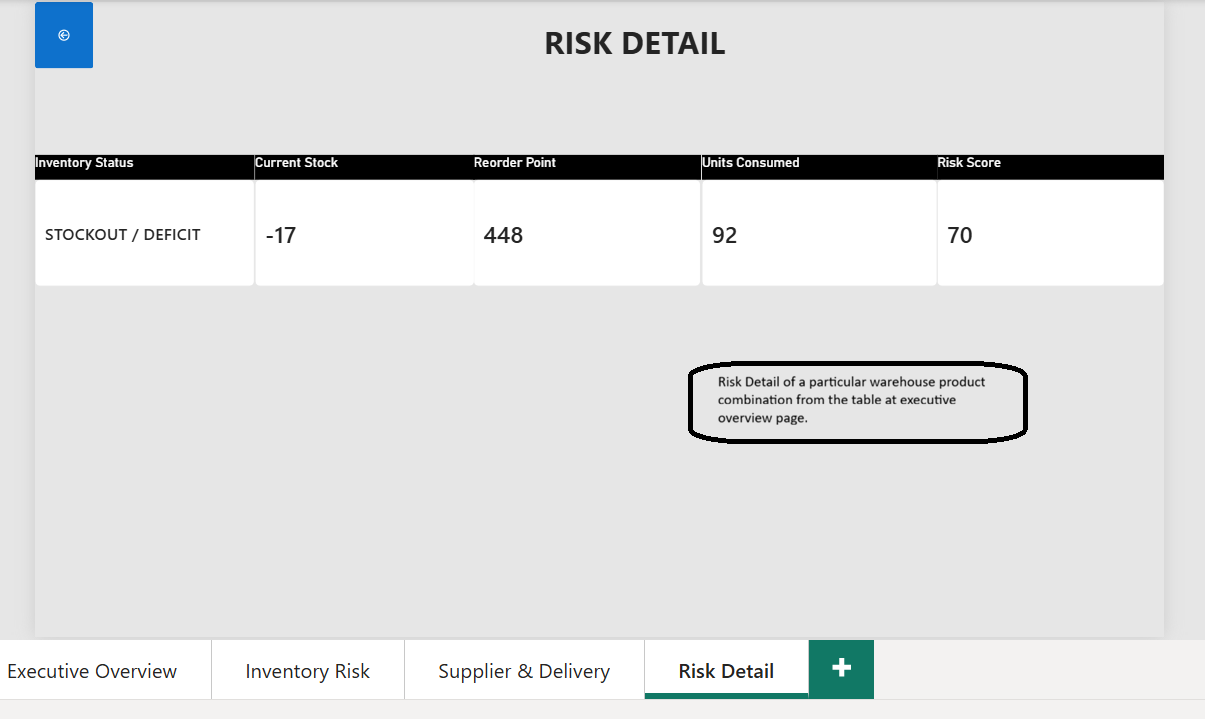

This screenshot's page, from the dashboard's own definition file:
{"tool":"powerbi","page":{"name":"Risk Detail","canvas":[1920,1080],"ordinal":3},"visuals":[{"type":"cardVisual","title":"Risk Score","fields":{"Data":["Sum(supply_chain vw_inventory_risk_engine.total_risk_score)"]},"box":[1533.3,260,386.7,223.3],"z":0},{"type":"cardVisual","title":" Units Consumed","fields":{"Data":["supply_chain vw_inventory_risk_engine.Total Units Consumed"]},"box":[1133.3,260,400,223.3],"z":1000},{"type":"cardVisual","title":"Reorder Point","fields":{"Data":["Sum(supply_chain vw_inventory_risk_engine.reorder_point)"]},"box":[746.7,260,386.7,223.3],"z":2000},{"type":"actionButton","box":[0,0,99.1,113.2],"z":3000},{"type":"cardVisual","title":"Current Stock","fields":{"Data":["Measuress.Current Inventory Selected"]},"box":[373.3,260,373.3,223.3],"z":4000},{"type":"cardVisual","title":"Inventory Status","fields":{"Data":["Measuress.Inventory Status"]},"box":[0,260,373.3,223.3],"z":5000},{"type":"textbox","box":[200,30,1640,120],"z":6000}]}

Visuals, with their boxes on the page's 1920x1080 design canvas (x1, y1, x2, y2). These are canvas units, not pixel positions in the 1205x719 screenshot, which may show the page scaled, cropped or inside an application window:
"Risk Score" cardVisual: rect(1533, 260, 1920, 483)
" Units Consumed" cardVisual: rect(1133, 260, 1533, 483)
"Reorder Point" cardVisual: rect(747, 260, 1133, 483)
actionButton: rect(0, 0, 99, 113)
"Current Stock" cardVisual: rect(373, 260, 747, 483)
"Inventory Status" cardVisual: rect(0, 260, 373, 483)
textbox: rect(200, 30, 1840, 150)
